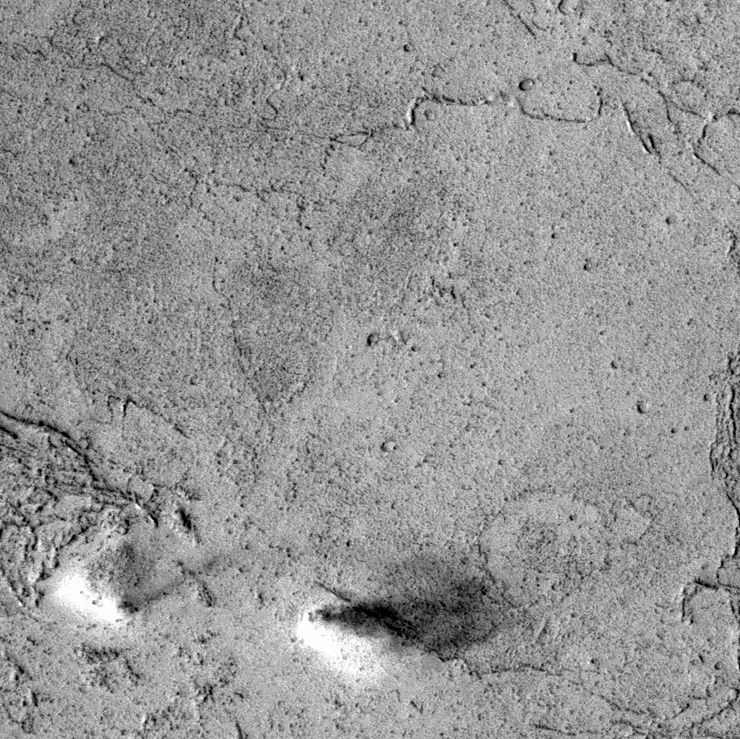dust_devil: (292, 568, 525, 686), (51, 543, 222, 628)
